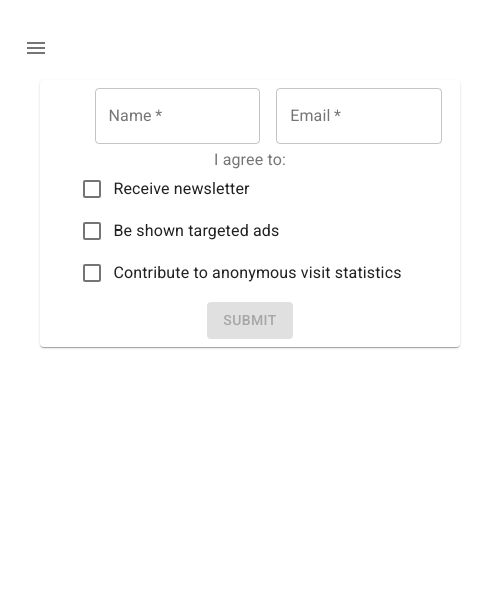
Test: responsive-menu.js › menu should close on link click
The image size is (500, 600).
Click the button with class "cypress-menu-button" at (36, 48), box [12,24,60,72]
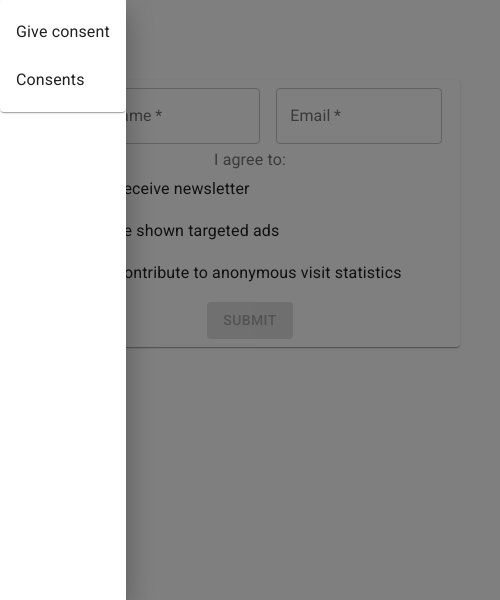
Click the menu item with class "cypress-give-consent-link" at (63, 32), box [16,22,110,41]
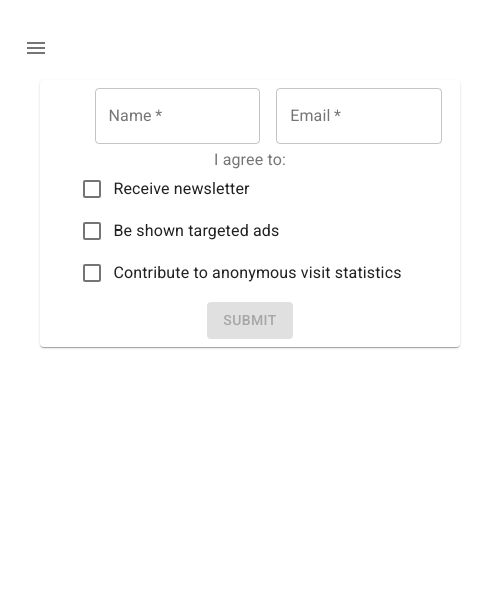
Result: the navigation bar with class "cypress-menu" is gone
